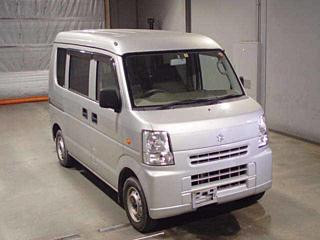car: (49, 24, 272, 230)
